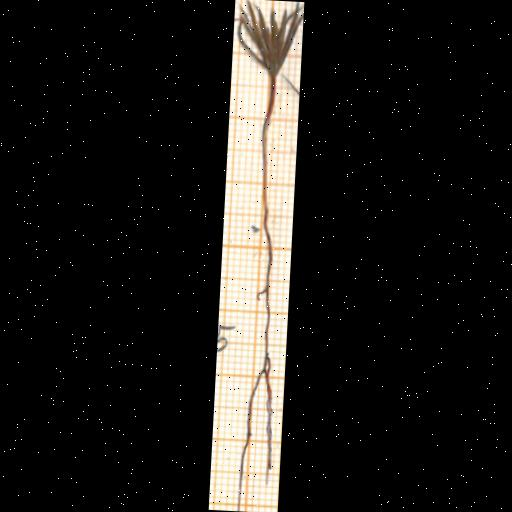flowerPinus: (236, 0, 302, 77)
rootPinus: (235, 231, 273, 510)
stemPinus: (260, 76, 276, 229)
